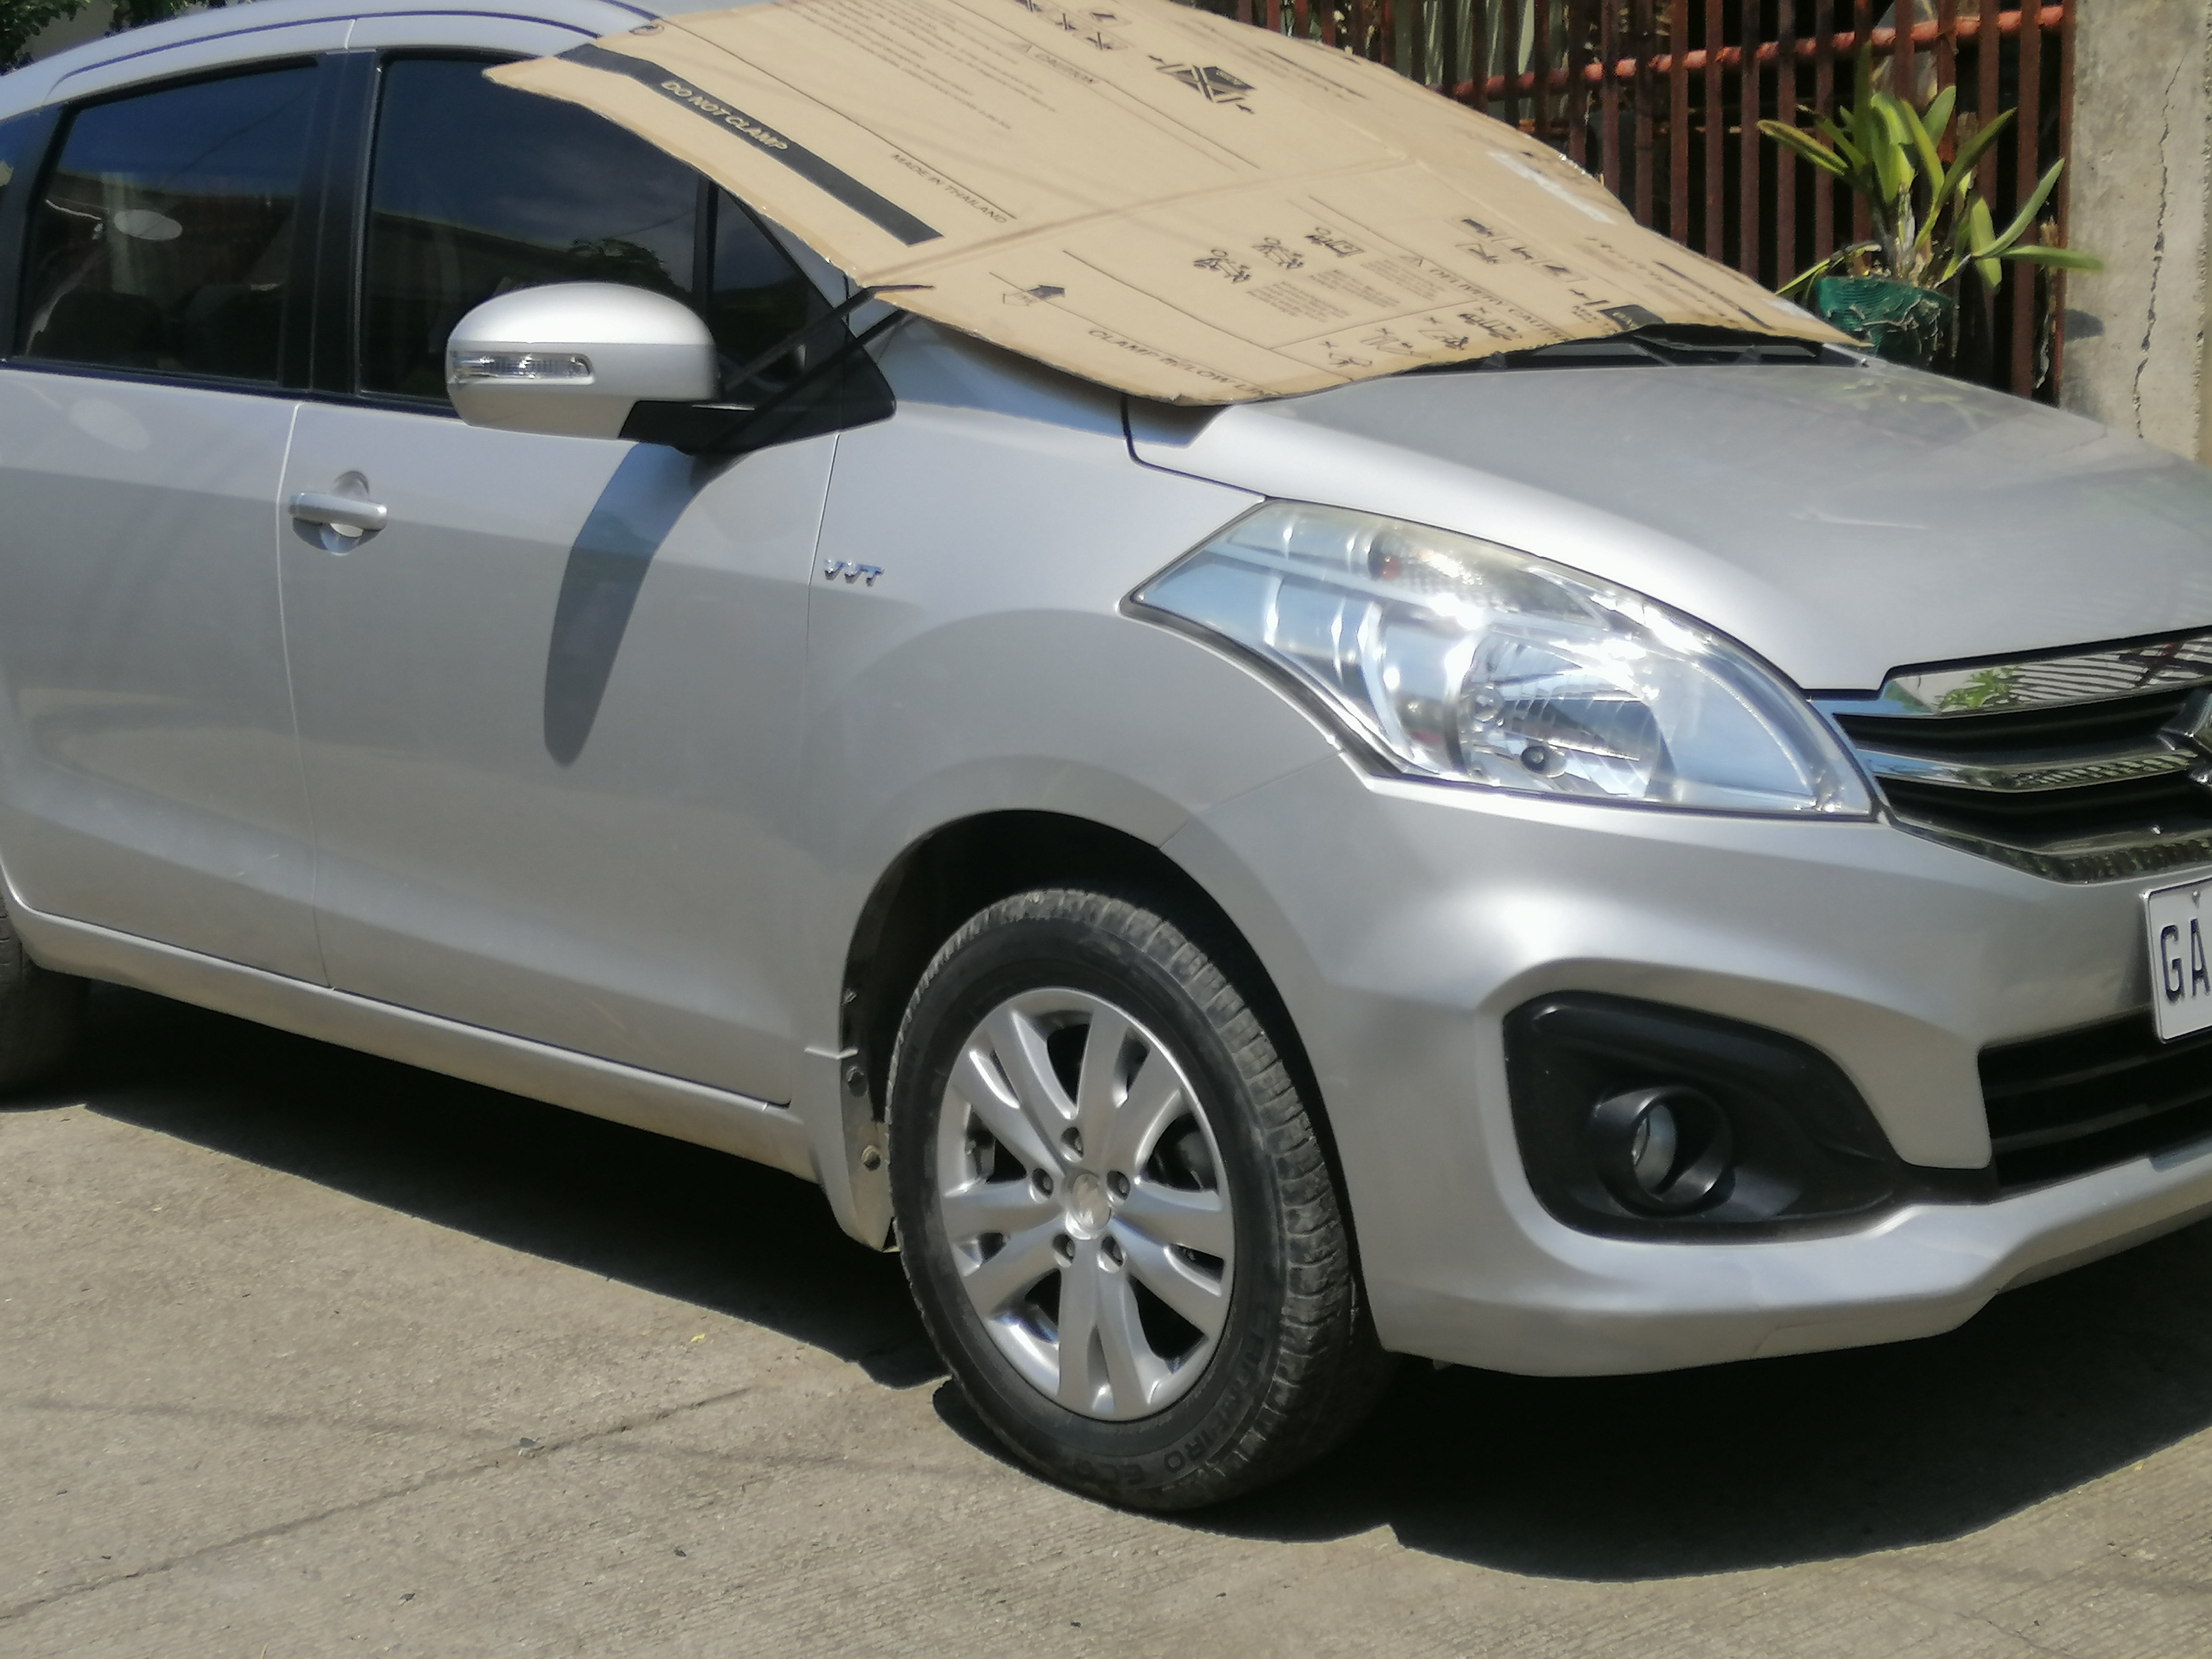car: (2, 12, 2212, 1511)
